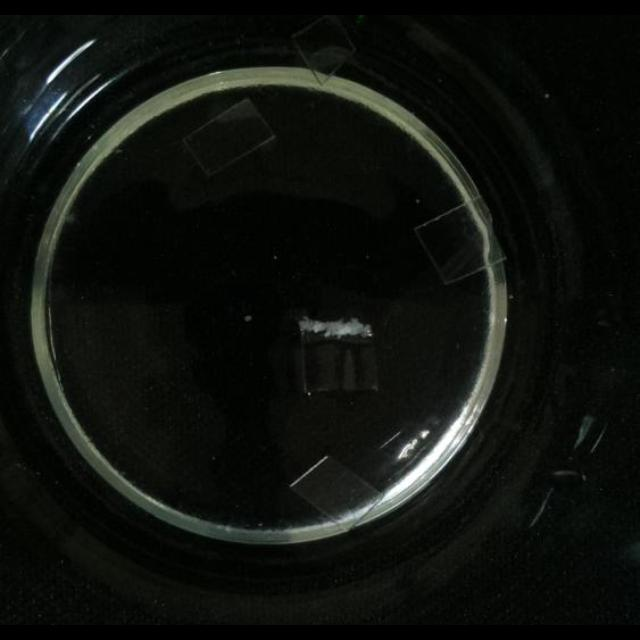Film: (410, 198, 504, 286), (294, 308, 382, 399), (180, 99, 278, 178), (290, 452, 382, 520), (292, 17, 356, 85)
